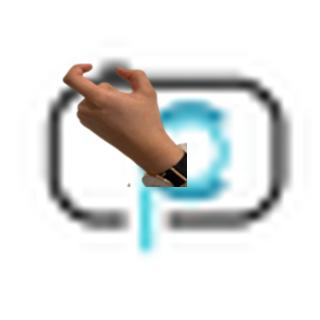HATE: (60, 59, 165, 156)
